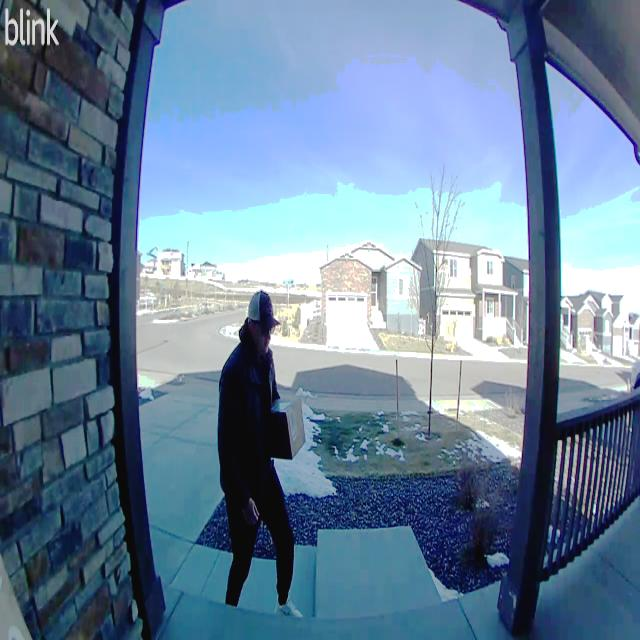Box: (269, 395, 306, 460)
